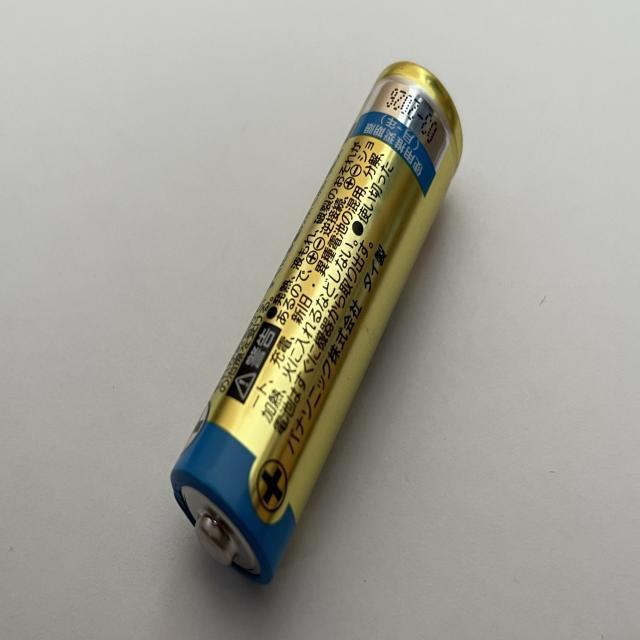AA: (170, 59, 464, 586)
